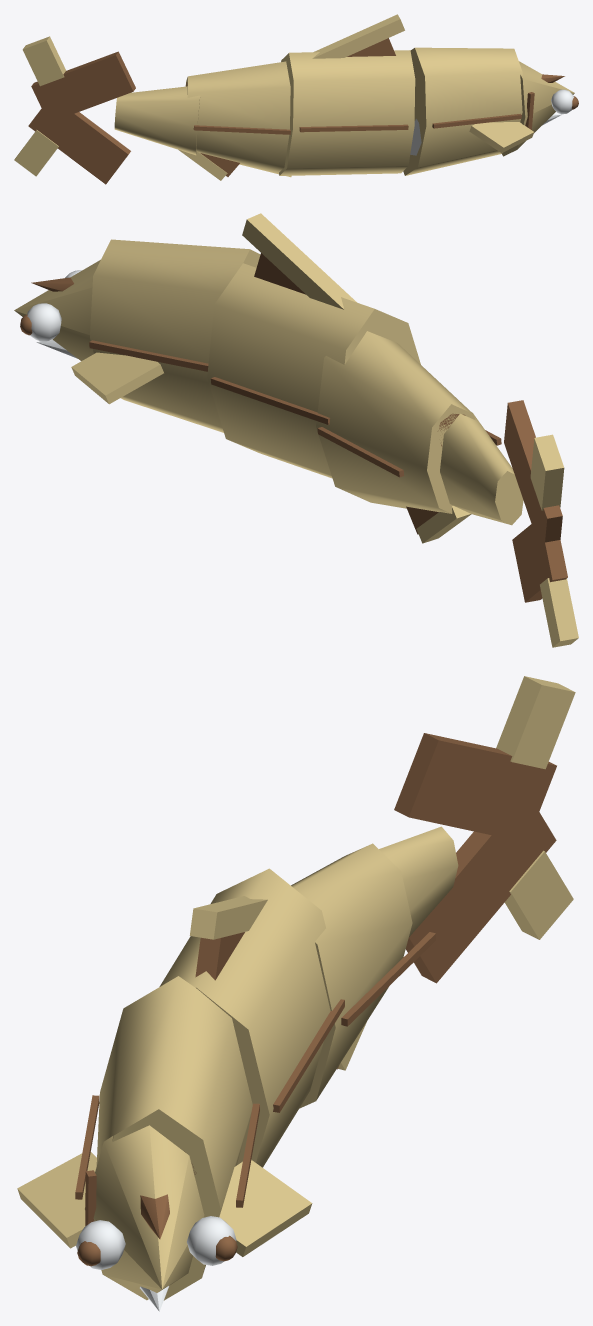
The model's file is drop-raw-fish.glb.
The picture shows the model from 3 angles, top to bottom: view 1: azimuth 30°, elevation 25°; view 2: azimuth 150°, elevation 25°; view 3: azimuth 270°, elevation 25°; orthographic projection. The views are drawn at different scales.
Visible parts, largest first — view 1: Mesh_MidBody, Mesh_ForeBody, Mesh_RearBody, Mesh_TailPeduncle, Mesh_TailLobeUpper, Mesh_TailLobeLower, Mesh_HeadMesh, Mesh_DorsalFinTrim, Mesh_TailLobeUpperTip, Mesh_PecFinR, Mesh_TailLobeLowerTip, Mesh_LatLineMidR (+8 smaller); view 2: Mesh_MidBody, Mesh_ForeBody, Mesh_RearBody, Mesh_TailPeduncle, Mesh_DorsalFinTrim, Mesh_TailLobeUpper, Mesh_HeadMesh, Mesh_PecFinL, Mesh_TailLobeLower, Mesh_TailLobeUpperTip, Mesh_TailLobeLowerTip, Mesh_LatLineMidL (+5 smaller); view 3: Mesh_ForeBody, Mesh_MidBody, Mesh_RearBody, Mesh_HeadMesh, Mesh_TailLobeUpper, Mesh_TailLobeLower, Mesh_PecFinL, Mesh_TailLobeUpperTip, Mesh_TailPeduncle, Mesh_PecFinR, Mesh_TailLobeLowerTip, Mesh_DorsalFinTrim (+8 smaller).
Part boxes in pixels (x1=…): Mesh_MidBody: x1=279, y1=50, x2=415, y2=175; Mesh_ForeBody: x1=403, y1=47, x2=522, y2=175; Mesh_RearBody: x1=185, y1=61, x2=291, y2=177; Mesh_TailPeduncle: x1=114, y1=86, x2=200, y2=155; Mesh_TailLobeUpper: x1=31, y1=51, x2=135, y2=122; Mesh_TailLobeLower: x1=28, y1=97, x2=130, y2=184; Mesh_HeadMesh: x1=501, y1=61, x2=574, y2=156; Mesh_DorsalFinTrim: x1=312, y1=14, x2=404, y2=58; Mesh_TailLobeUpperTip: x1=22, y1=36, x2=66, y2=86; Mesh_PecFinR: x1=469, y1=122, x2=534, y2=153; Mesh_TailLobeLowerTip: x1=14, y1=130, x2=58, y2=176; Mesh_LatLineMidR: x1=299, y1=124, x2=408, y2=132; Mesh_MidBody: x1=207, y1=263, x2=420, y2=478; Mesh_ForeBody: x1=90, y1=239, x2=260, y2=432; Mesh_RearBody: x1=316, y1=331, x2=475, y2=513; Mesh_TailPeduncle: x1=440, y1=412, x2=523, y2=525; Mesh_DorsalFinTrim: x1=242, y1=213, x2=356, y2=309; Mesh_TailLobeUpper: x1=504, y1=400, x2=562, y2=557; Mesh_HeadMesh: x1=14, y1=259, x2=100, y2=360; Mesh_PecFinL: x1=71, y1=352, x2=163, y2=404; Mesh_TailLobeLower: x1=512, y1=517, x2=567, y2=602; Mesh_TailLobeUpperTip: x1=530, y1=434, x2=564, y2=510; Mesh_TailLobeLowerTip: x1=540, y1=578, x2=578, y2=647; Mesh_LatLineMidL: x1=210, y1=377, x2=330, y2=424; Mesh_ForeBody: x1=96, y1=976, x2=252, y2=1300; Mesh_MidBody: x1=159, y1=868, x2=330, y2=1167; Mesh_RearBody: x1=291, y1=843, x2=412, y2=1108; Mesh_HeadMesh: x1=85, y1=1125, x2=204, y2=1300; Mesh_TailLobeUpper: x1=394, y1=733, x2=556, y2=842; Mesh_TailLobeLower: x1=406, y1=812, x2=556, y2=983; Mesh_PecFinL: x1=219, y1=1160, x2=312, y2=1256; Mesh_TailLobeUpperTip: x1=496, y1=676, x2=575, y2=769; Mesh_TailPeduncle: x1=379, y1=826, x2=458, y2=936; Mesh_PecFinR: x1=17, y1=1152, x2=96, y2=1248; Mesh_TailLobeLowerTip: x1=505, y1=850, x2=573, y2=939; Mesh_DorsalFinTrim: x1=189, y1=896, x2=267, y2=939.
Bounding box in the file's own units: 0.7689 × 0.2457 × 0.4018.
